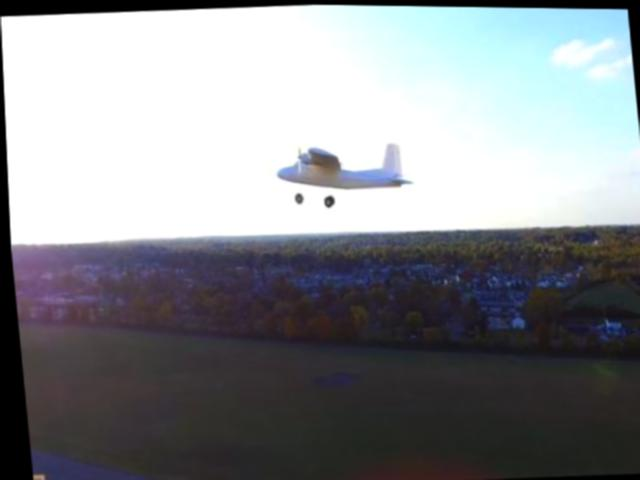uav: (275, 136, 409, 208)
